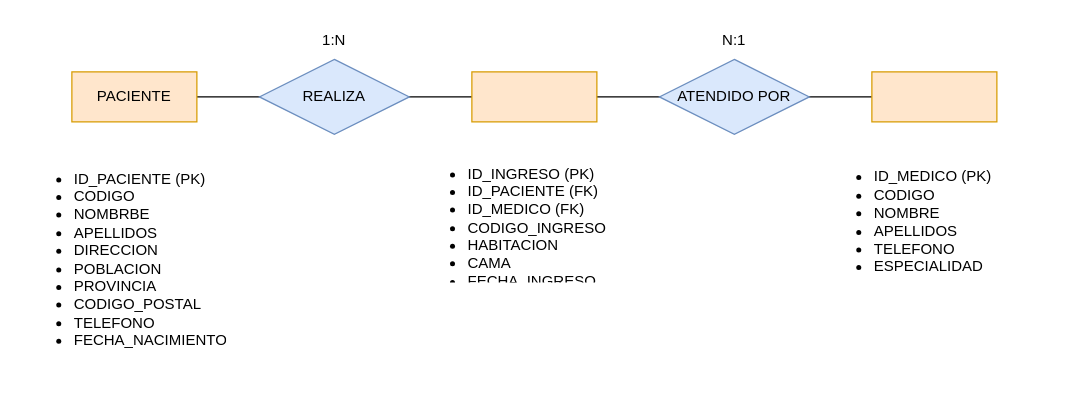
The diagram is 1065 pixels wide and 393 high, and some of its shapes have lost their labels. The box of each missing label's shape, as (x1, y1, x2, y2) in pixels:
INGRESO: (471, 71, 597, 122)
MEDICO: (871, 71, 997, 122)
